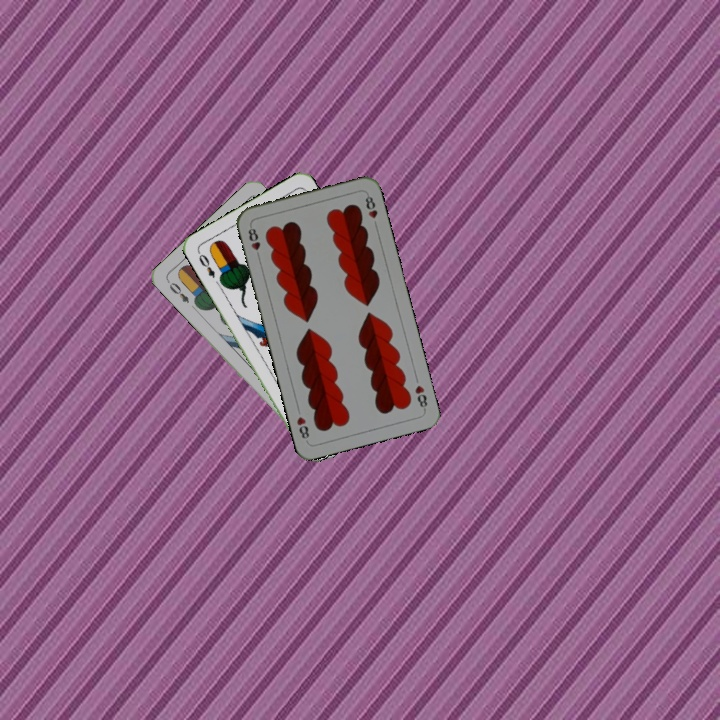EO: (163, 276, 192, 306), (194, 248, 218, 280)
H8: (244, 222, 263, 262), (411, 381, 430, 413)
